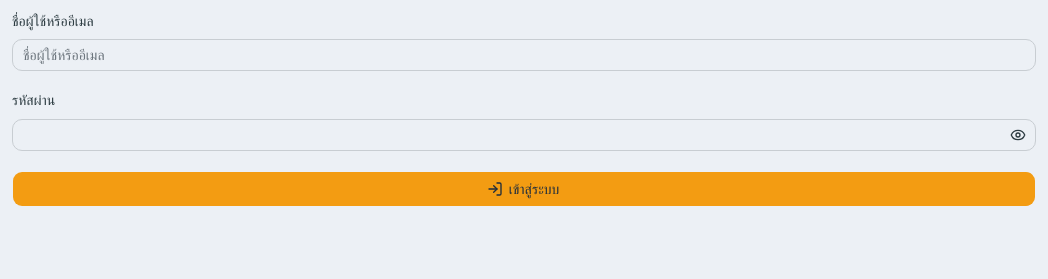
Test: login form › renders Thai validation messages
Click the button "เข้าสู่ระบบ" at (524, 188), box [12, 170, 1036, 206]
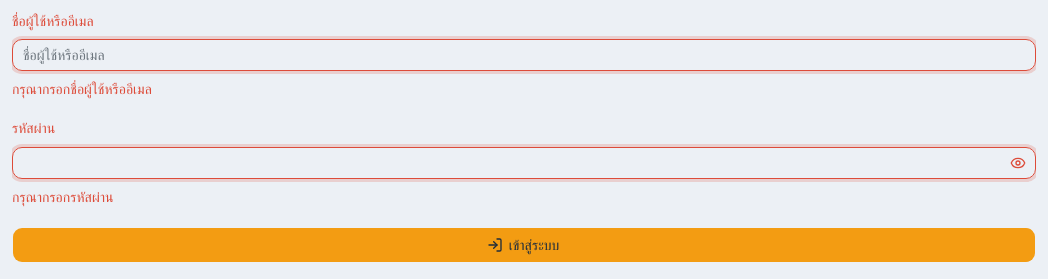
Check: the text "กรุณากรอกชื่อผู้ใช้หรืออีเมล" is shown, box [12, 80, 152, 98]
Check: the text "กรุณากรอกรหัสผ่าน" is shown, box [12, 188, 113, 206]
